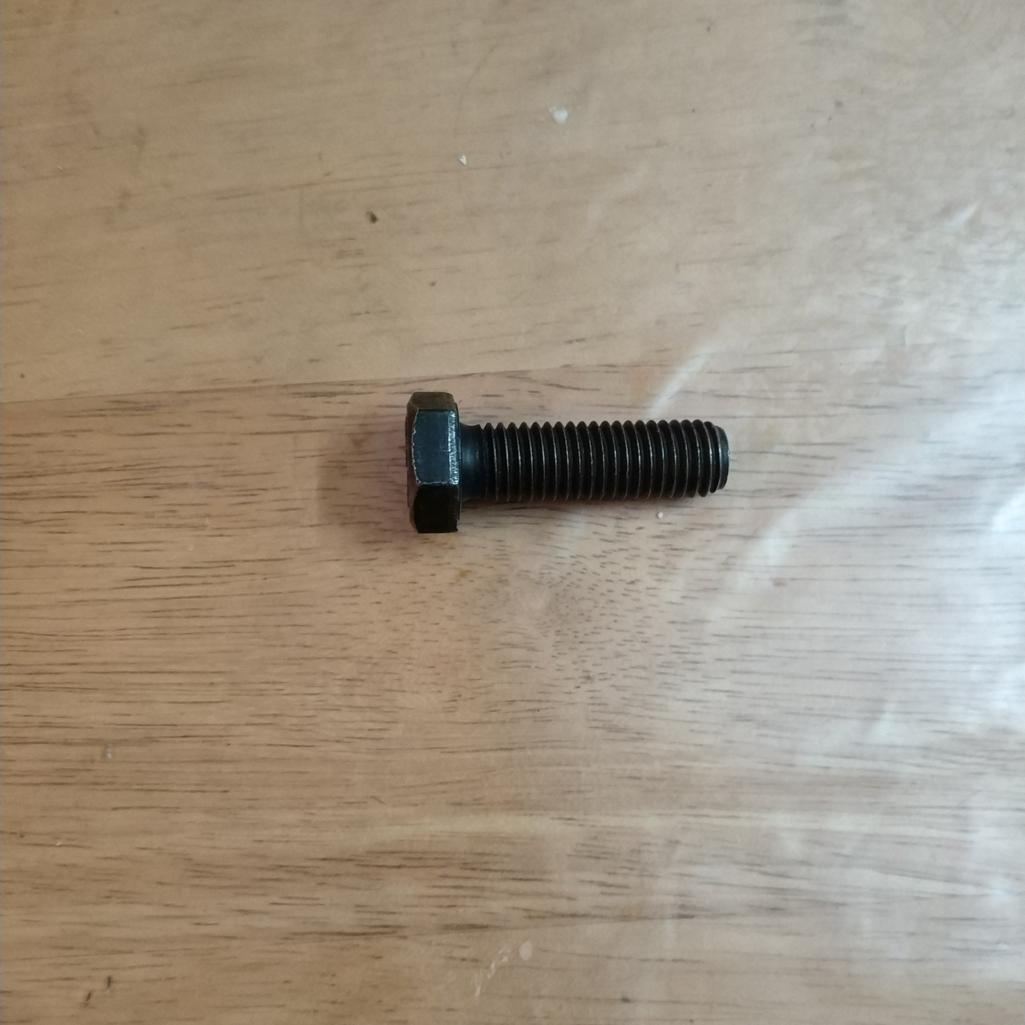screwtype2black: (396, 384, 734, 544)
